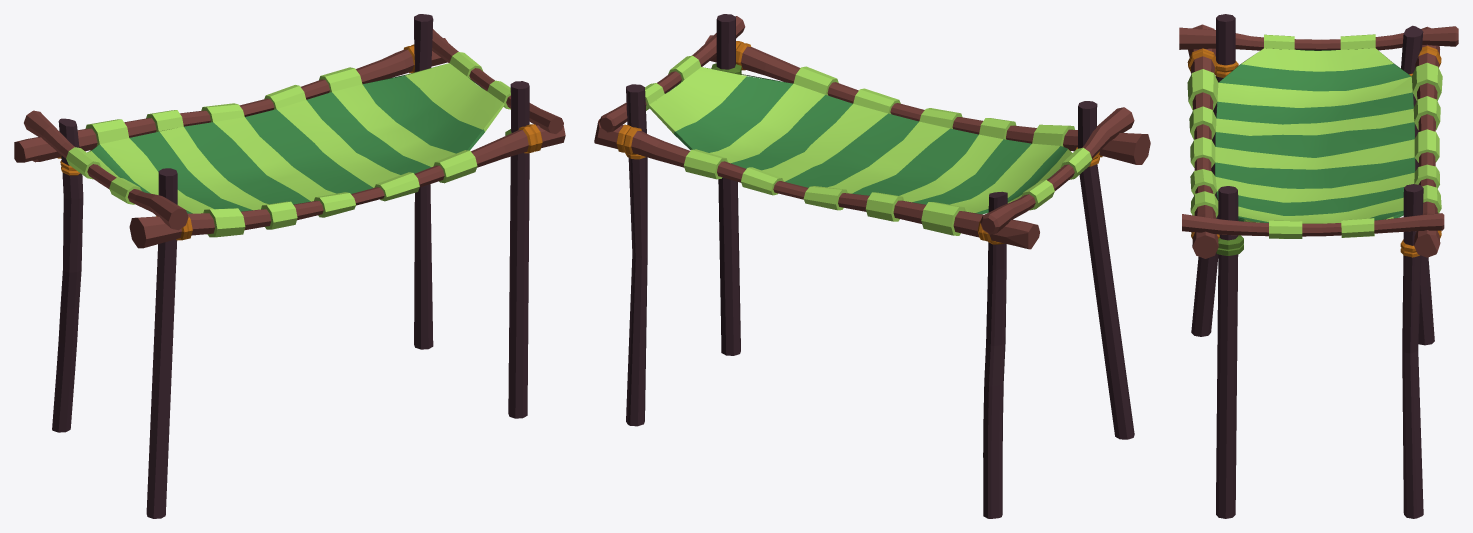
File: Canopy 03.fbx
The picture shows the model from 3 angles, left to right: view 1: azimuth 30°, elevation 25°; view 2: azimuth 150°, elevation 25°; view 3: azimuth 270°, elevation 25°; orthographic projection. The views are drawn at different scales.
Parts seen in each view (by area): view 1: Canopy 03; view 2: Canopy 03; view 3: Canopy 03.
Boxes of the visible parts, box(x1,y1,x2,y2) form: Canopy 03: box(14, 14, 565, 518); Canopy 03: box(594, 14, 1150, 518); Canopy 03: box(1179, 14, 1458, 518).
Size of the model in its own units: 414 by 303 by 235.
